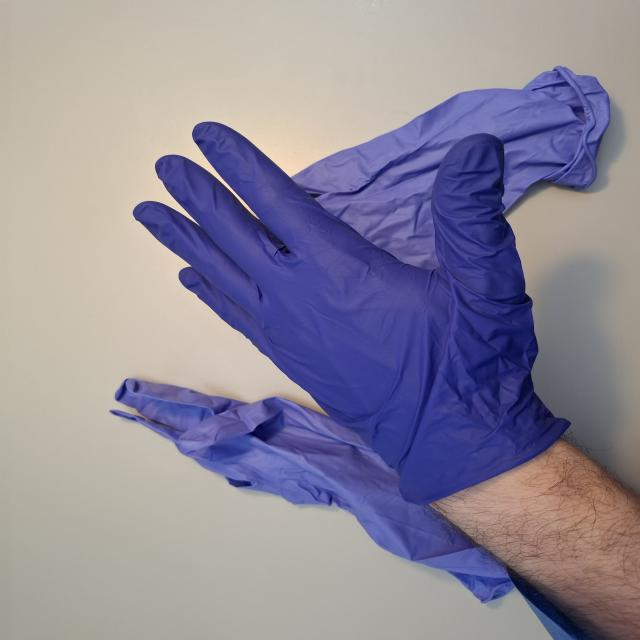glove_on: (127, 117, 568, 506)
